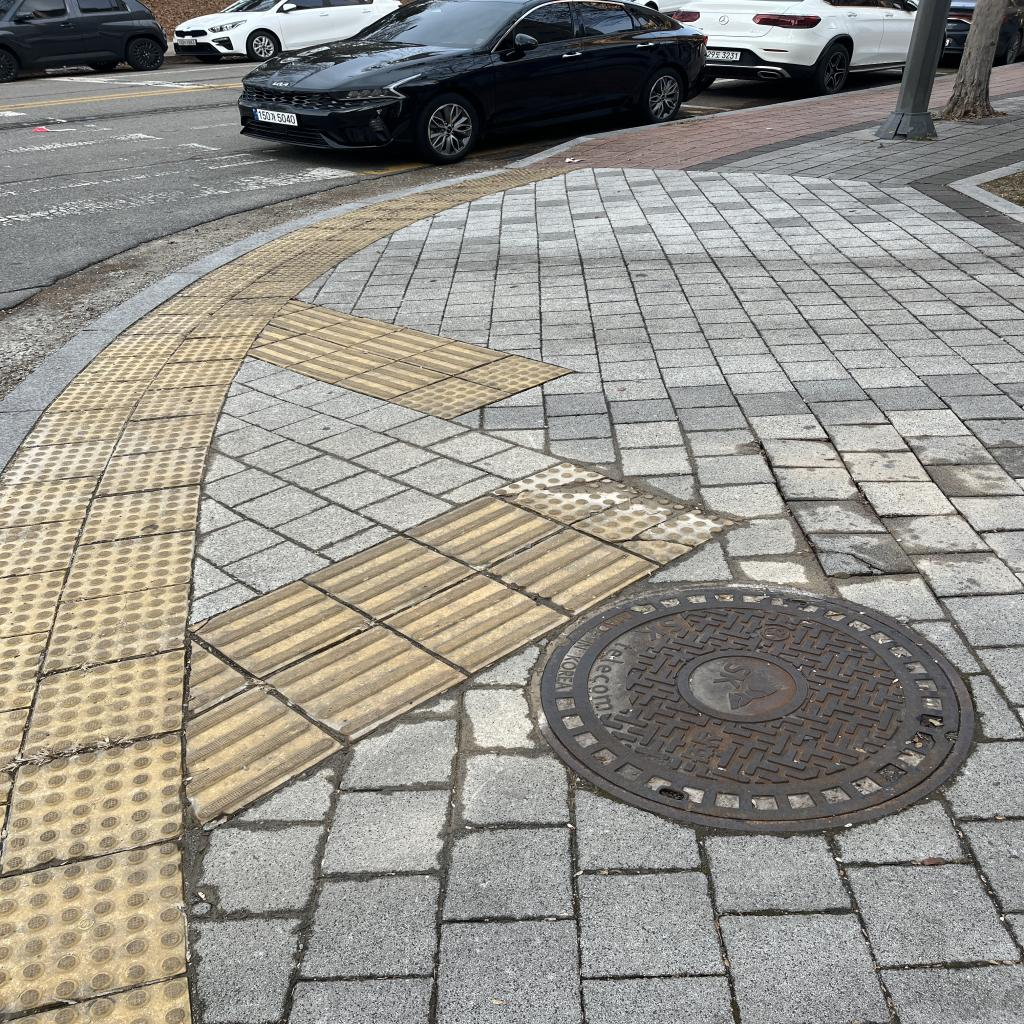Stop block broken: (570, 473, 735, 582), (490, 438, 646, 546)
Stop block normal: (0, 732, 202, 871), (7, 650, 199, 760), (33, 582, 199, 671), (388, 358, 510, 436), (455, 340, 573, 409)
Straight block broken: (187, 553, 372, 697)
Straight block normal: (264, 596, 468, 762), (383, 541, 568, 698), (488, 502, 656, 639), (305, 512, 475, 638), (402, 473, 562, 589)
